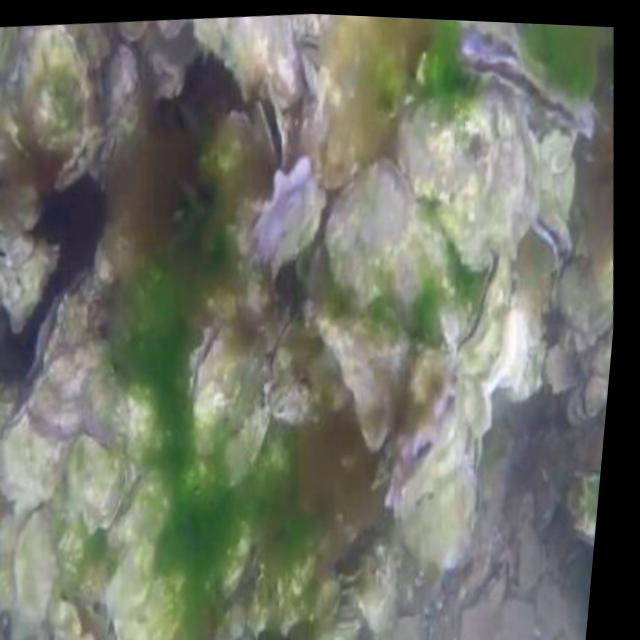Oyster-Closed: (21, 25, 89, 144), (0, 400, 67, 512), (457, 249, 513, 382), (190, 319, 242, 455), (68, 435, 127, 533), (56, 125, 101, 192), (266, 314, 309, 383), (103, 35, 138, 117), (466, 433, 482, 476), (115, 20, 145, 42)
Oyster-Indeterminate: (391, 81, 541, 268), (325, 159, 450, 333), (315, 312, 414, 447), (189, 14, 302, 108), (29, 336, 120, 432), (12, 505, 61, 627), (114, 574, 185, 640), (108, 540, 153, 616), (547, 348, 583, 390), (585, 375, 608, 411)
Oyster-Open: (449, 50, 596, 133), (22, 267, 108, 381), (253, 159, 325, 266), (394, 347, 457, 465), (387, 433, 442, 520), (517, 209, 572, 283), (253, 88, 289, 171), (456, 20, 525, 61), (216, 605, 253, 640), (301, 34, 328, 62)
